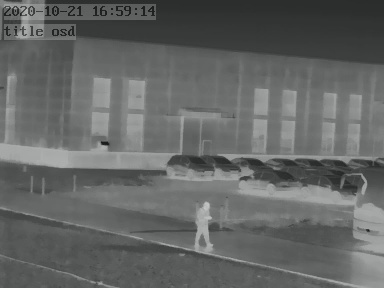person: (193, 198, 213, 248)
vehicle: (302, 173, 356, 203), (239, 169, 303, 191), (164, 153, 212, 179), (204, 153, 242, 177), (233, 154, 269, 172), (344, 156, 378, 172), (262, 155, 295, 169), (319, 156, 349, 170), (279, 155, 311, 168), (296, 155, 325, 169)
